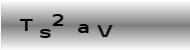2: (51, 13, 65, 26)
T: (18, 17, 34, 31)
V: (96, 22, 113, 37)
a: (77, 22, 89, 33)
s: (38, 28, 51, 38)
